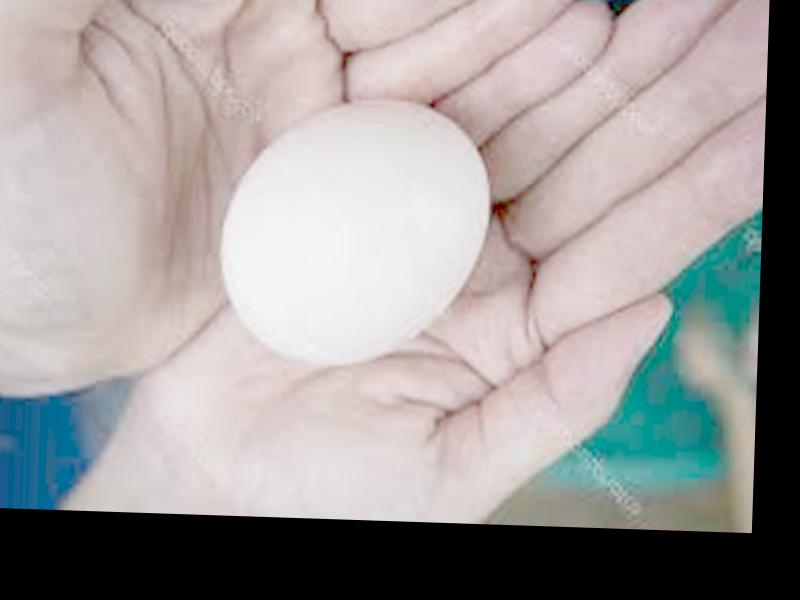Eggs: (219, 101, 492, 363)
